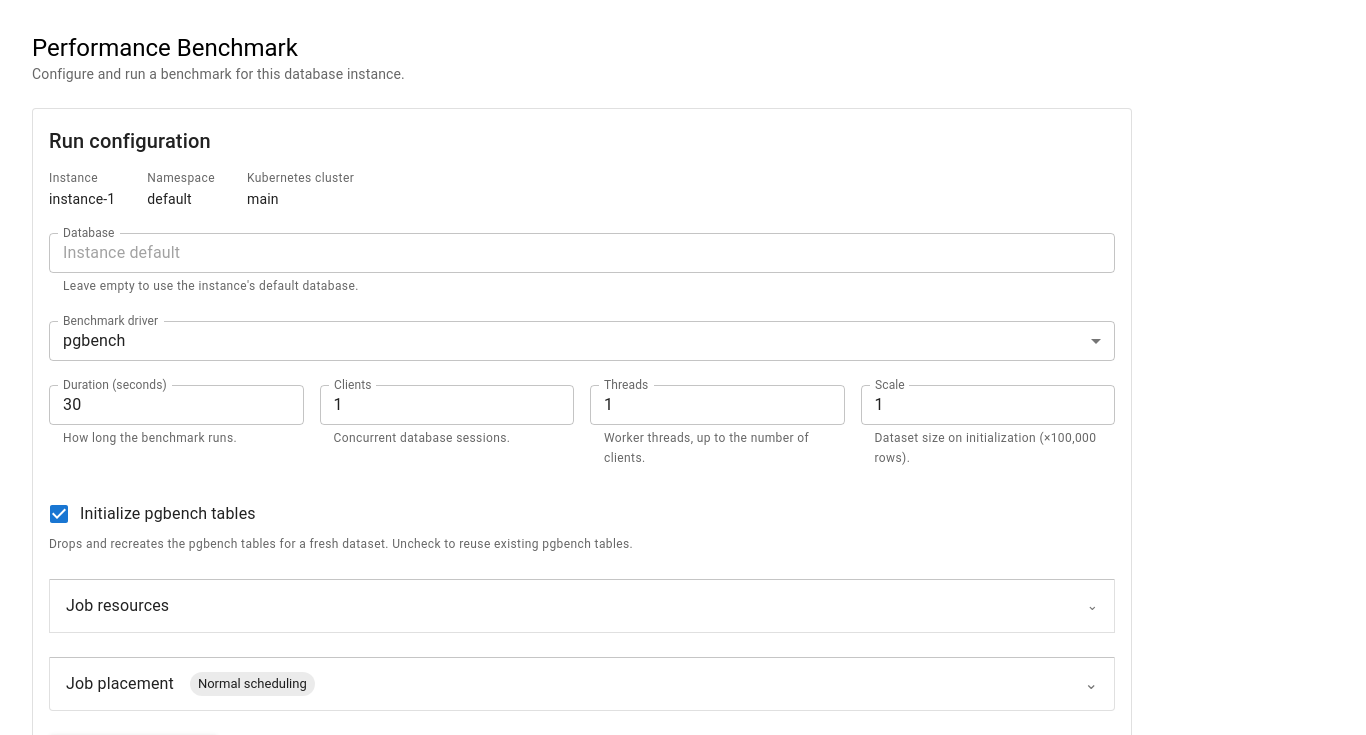
Test case: benchmark driver workflow › offers only pgbench for provider-cloudnative-pg
Press the mouse on the dropdown named "Benchmark driver" at [94, 341], box [63,331,126,350]
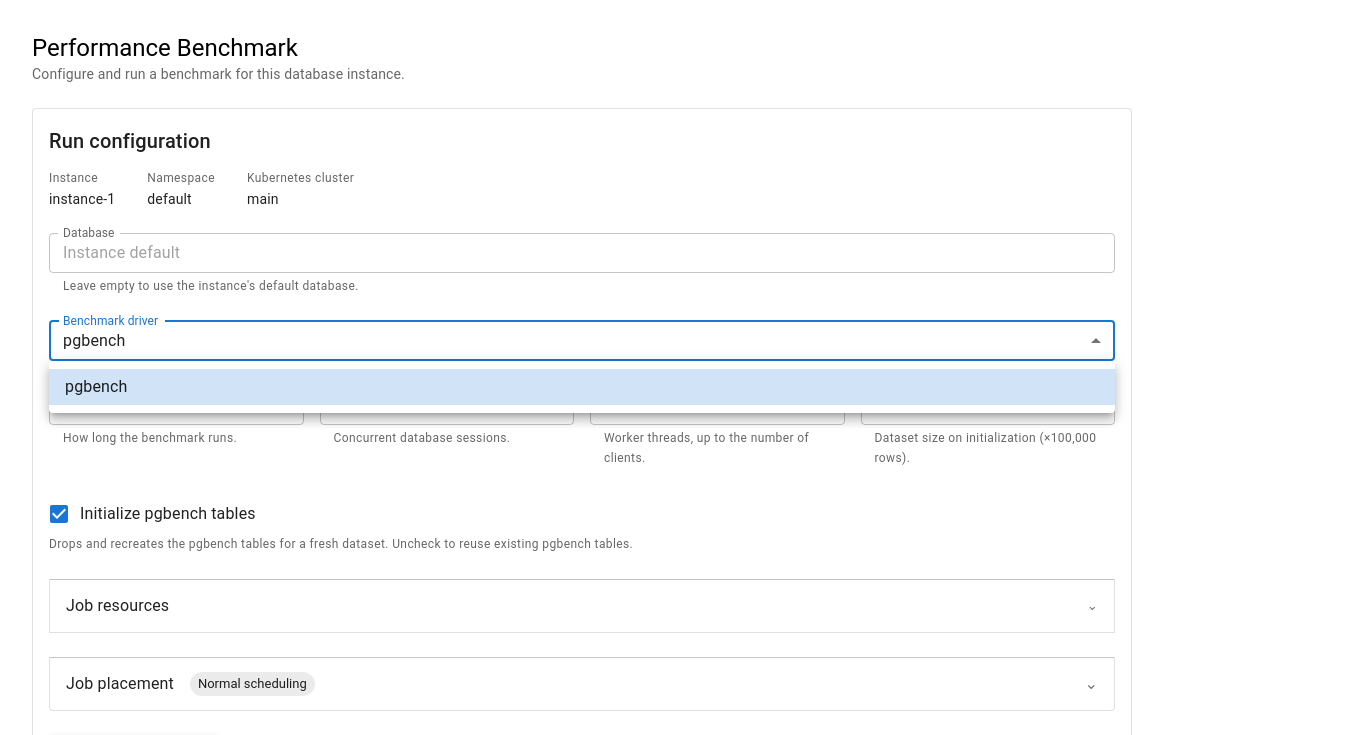
Check: the number of options is 1, box [49,369,1115,405]
Check: the option reads "pgbench", box [49,369,1115,405]
